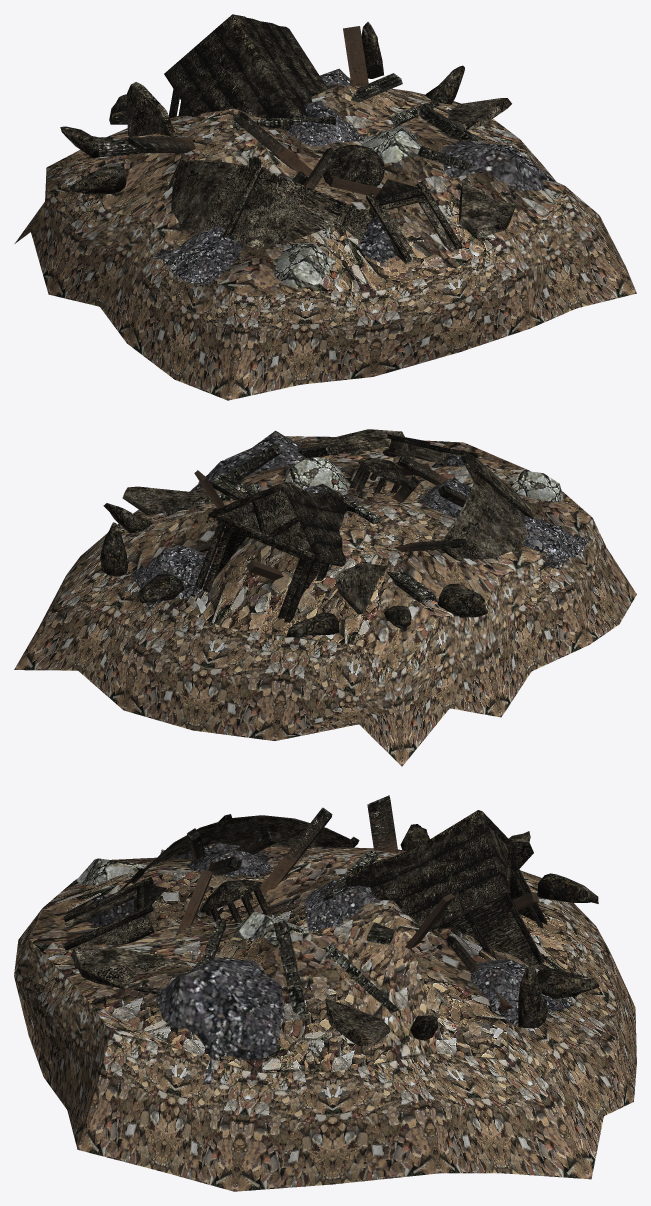
The model's file is brit_town_center_rubble.glb.
3 renders of one model, top to bottom at view 1: azimuth 30°, elevation 25°; view 2: azimuth 150°, elevation 25°; view 3: azimuth 270°, elevation 25°, orthographic. The views are drawn at different scales.
Visible parts, largest first — view 1: brit_town_center_rubble_part0, brit_town_center_rubble_part1; view 2: brit_town_center_rubble_part0, brit_town_center_rubble_part1; view 3: brit_town_center_rubble_part0, brit_town_center_rubble_part1.
Boxes of the visible parts, bbox=[...] form: brit_town_center_rubble_part0: bbox=[14, 26, 636, 400]; brit_town_center_rubble_part1: bbox=[60, 14, 515, 264]; brit_town_center_rubble_part0: bbox=[14, 430, 636, 766]; brit_town_center_rubble_part1: bbox=[100, 429, 533, 637]; brit_town_center_rubble_part0: bbox=[14, 795, 636, 1191]; brit_town_center_rubble_part1: bbox=[63, 810, 599, 1045].
Size of the model in its own units: 5.92 by 2.71 by 6.2.
2 materials, 2 textured.
